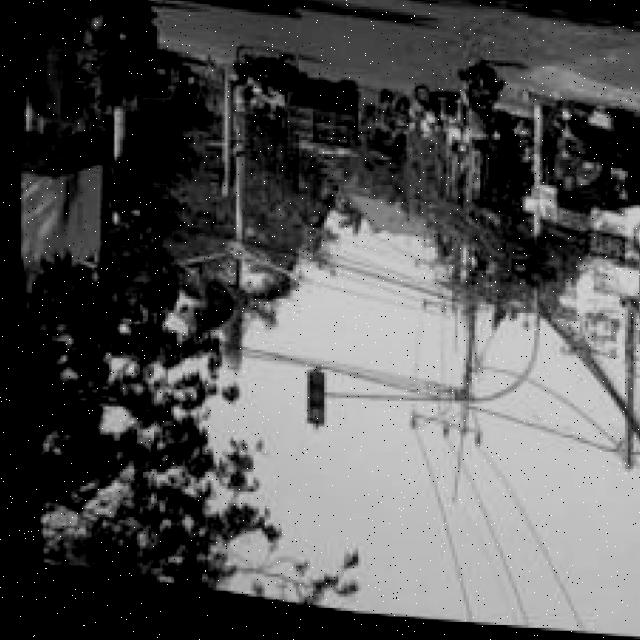Lampu Merah: (97, 165, 131, 228), (300, 374, 324, 437), (522, 236, 548, 293)
